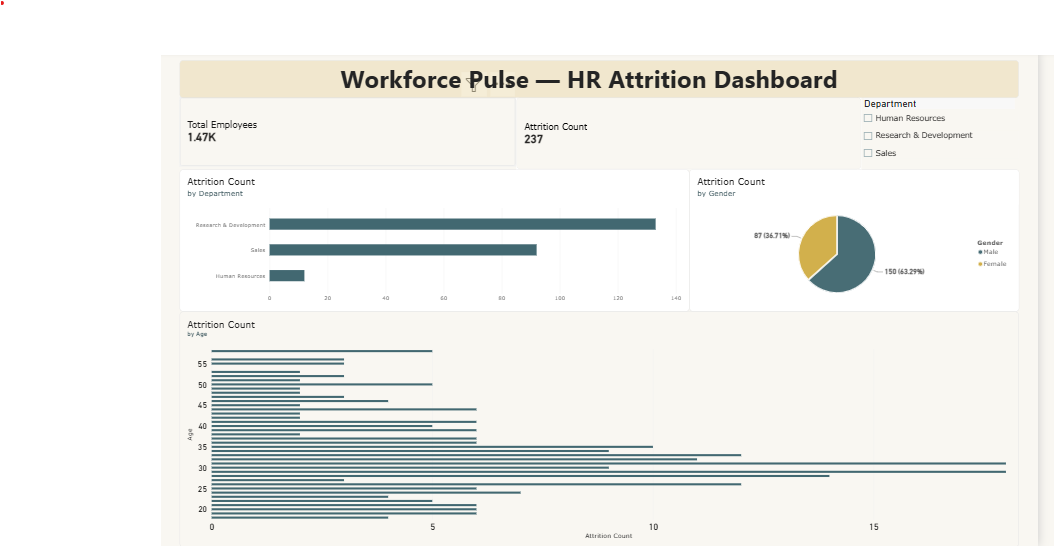

The dashboard page shown, as its layout file describes it:
{"tool":"powerbi","page":{"name":"Page 1","canvas":[1920,1080],"ordinal":0},"visuals":[{"type":"barChart","fields":{"Category":["workforce_pulse employees.Department"],"Y":["workforce_pulse employees.Attrition Count"]},"box":[45,256.5,1113.6,310.5],"z":0},{"type":"pieChart","fields":{"Category":["workforce_pulse employees.Gender"],"Y":["workforce_pulse employees.Attrition Count"]},"box":[1158.6,256.5,719.9,310.5],"z":1000},{"type":"barChart","fields":{"Category":["workforce_pulse employees.Age"],"Y":["workforce_pulse employees.Attrition Count"]},"box":[44.2,565.8,1833.3,514.2],"z":2000},{"type":"slicer","fields":{"Values":["workforce_pulse employees.Department"]},"box":[1532.2,100,345.3,157.3],"z":3000},{"type":"cardVisual","fields":{"Data":["workforce_pulse employees.Attrition Count"]},"box":[780.6,99,753.7,157.5],"z":4000},{"type":"cardVisual","fields":{"Data":["workforce_pulse employees.Total Employees"]},"box":[45,100,735,150],"z":5000},{"type":"textbox","box":[44.2,17.5,1833.3,82.5],"z":6000}]}

Visuals, with their boxes on the page's 1920x1080 design canvas (x1, y1, x2, y2). These are canvas units, not pixel positions in the 1054x546 screenshot, which may show the page scaled, cropped or inside an application window:
barChart - workforce_pulse employees.Department x workforce_pulse employees.Attrition Count: locate(45, 256, 1159, 567)
pieChart - workforce_pulse employees.Gender x workforce_pulse employees.Attrition Count: locate(1159, 256, 1878, 567)
barChart - workforce_pulse employees.Age x workforce_pulse employees.Attrition Count: locate(44, 566, 1878, 1080)
slicer - workforce_pulse employees.Department: locate(1532, 100, 1878, 257)
cardVisual - workforce_pulse employees.Attrition Count: locate(781, 99, 1534, 256)
cardVisual - workforce_pulse employees.Total Employees: locate(45, 100, 780, 250)
textbox: locate(44, 18, 1878, 100)
